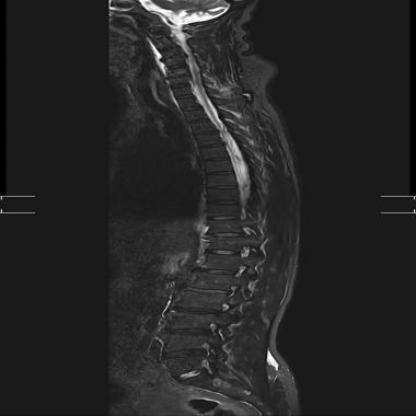Annular Tearrotation: (157, 346, 209, 361)
Disc Bulgerotation: (157, 346, 209, 361), (169, 304, 221, 317), (161, 325, 213, 338)
Disc Protrusionrotation: (183, 282, 227, 298), (160, 51, 182, 62)
